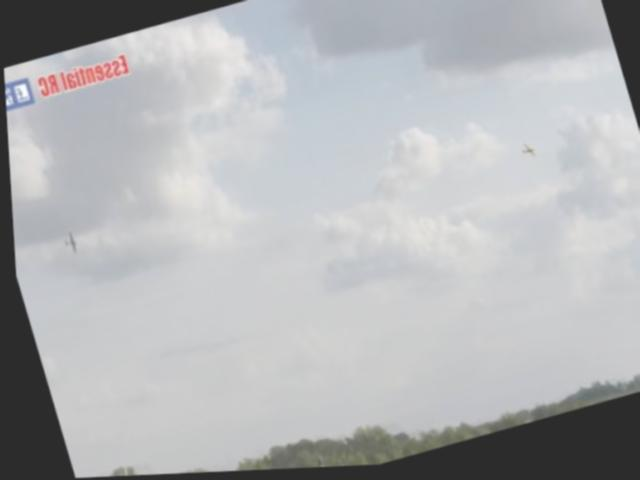uav: (56, 230, 79, 257), (513, 142, 538, 166)
